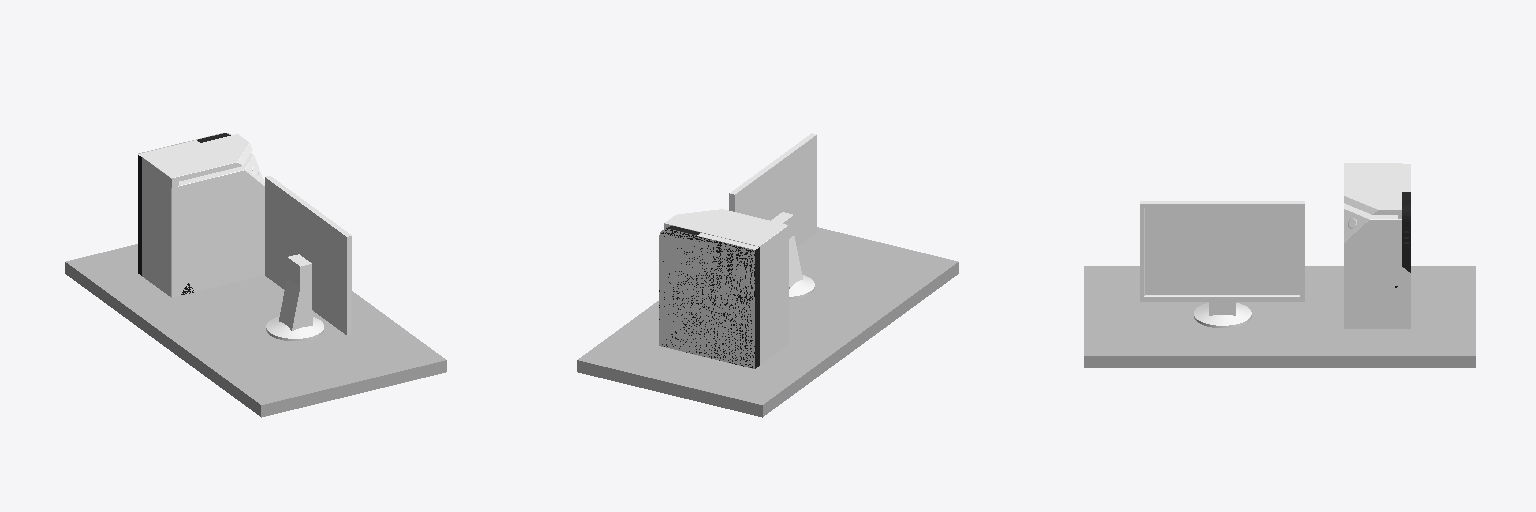
The model's file is computer.obj.
The picture shows the model from 3 angles: view 1: azimuth 30°, elevation 25°; view 2: azimuth 150°, elevation 25°; view 3: azimuth 270°, elevation 25°; orthographic projection.
Visible parts, largest first — view 1: table_.001_Plane.007; view 2: table_.001_Plane.007; view 3: table_.001_Plane.007.
Boxes of the visible parts, <box> form: table_.001_Plane.007: <box>65,133,446,417</box>; table_.001_Plane.007: <box>577,133,958,417</box>; table_.001_Plane.007: <box>1084,163,1475,367</box>.
Bounding box in the file's own units: 9.07 × 6.27 × 16.63.